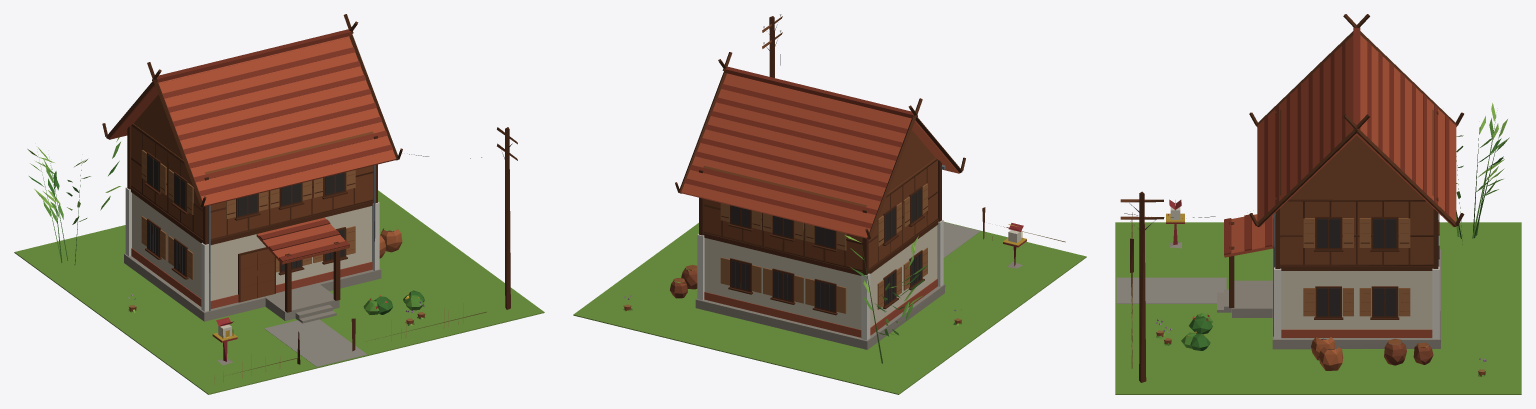
Rendered from home_2.glb.
The picture shows the model from 3 angles, left to right: view 1: azimuth 30°, elevation 25°; view 2: azimuth 150°, elevation 25°; view 3: azimuth 270°, elevation 25°; orthographic projection. The views are drawn at different scales.
Parts seen in each view (by area): view 1: body, windows; view 2: body, windows; view 3: body, windows.
Part boxes in pixels (x1,y1,x2,y2): body: (14,14,544,394); windows: (147,155,344,275); body: (573,14,1086,394); windows: (731,188,921,311); body: (1115,14,1521,394); windows: (1317,219,1396,316).
Bounding box in the file's own units: 15.98 × 10.61 × 15.9.
